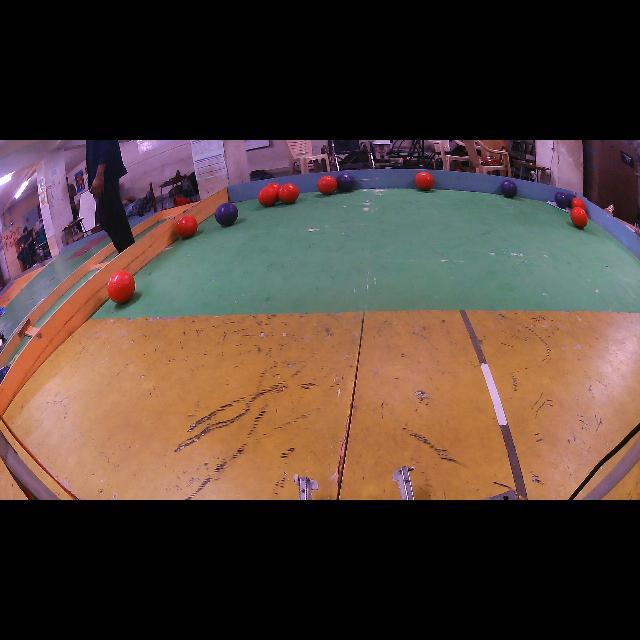P: (215, 202, 239, 226), (500, 180, 518, 199), (336, 174, 355, 191), (555, 191, 570, 209), (566, 192, 576, 202)
R: (108, 270, 135, 304), (176, 215, 198, 238), (258, 185, 278, 208), (278, 184, 299, 204), (570, 206, 588, 228), (318, 176, 338, 195), (415, 171, 434, 190), (571, 198, 585, 210), (266, 182, 281, 192)
